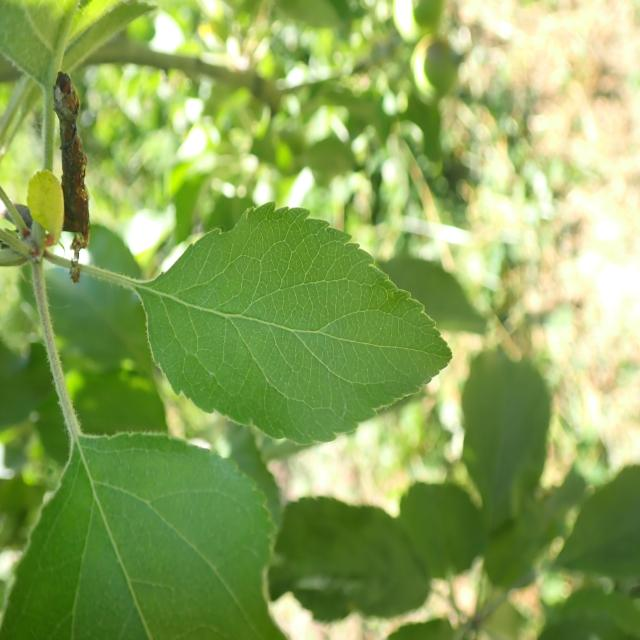healthy: (135, 202, 453, 447), (0, 430, 289, 639)
